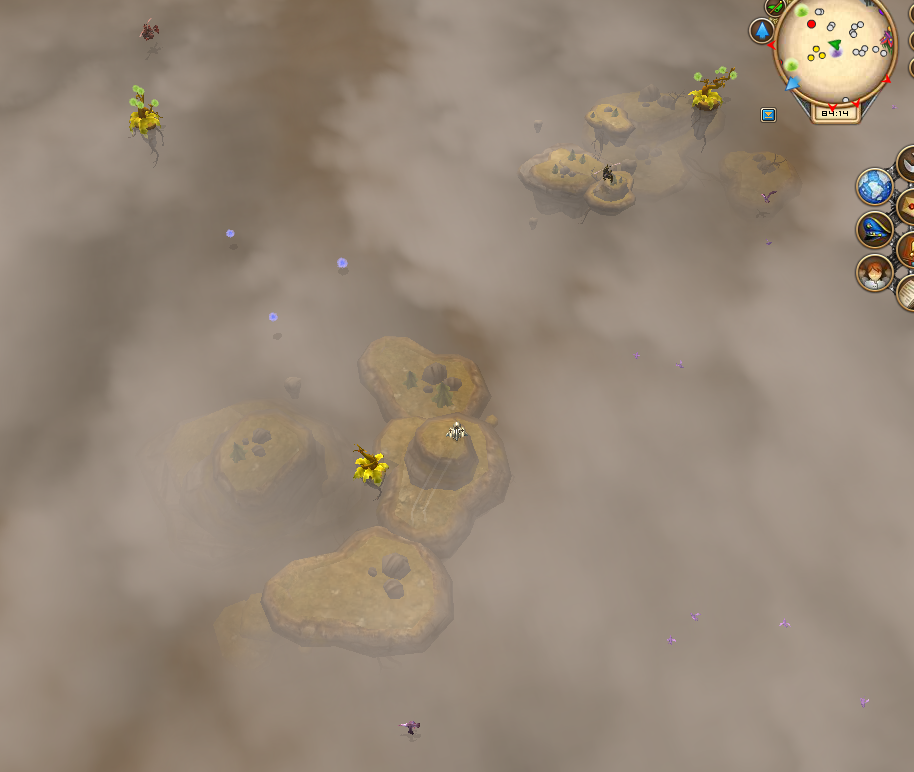dandelion-empty: (348, 436, 393, 499)
dandelion-full: (686, 56, 741, 136), (122, 80, 165, 154)
fluff: (263, 306, 284, 326), (221, 225, 238, 242), (333, 257, 349, 269)
